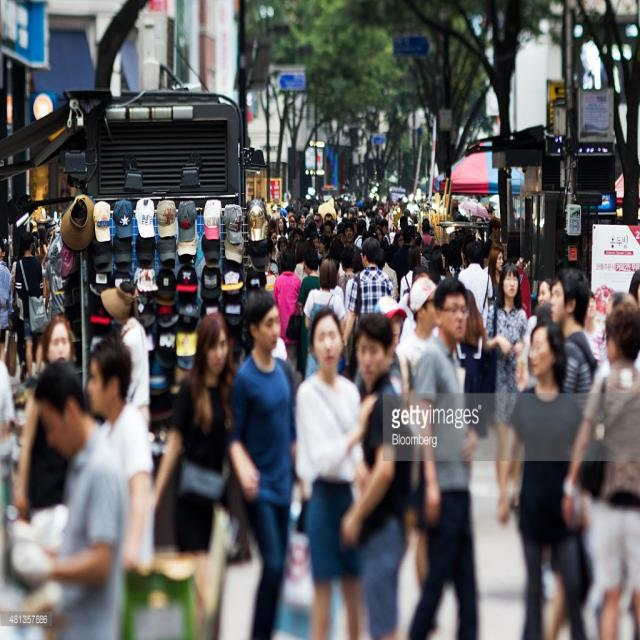body: (4, 355, 132, 639), (492, 310, 601, 639), (398, 271, 482, 639), (292, 306, 384, 639), (336, 308, 422, 639), (244, 179, 535, 275), (559, 298, 639, 639), (149, 310, 256, 560), (224, 287, 299, 640), (84, 335, 156, 579), (11, 314, 75, 525), (484, 258, 532, 524), (99, 277, 152, 430), (548, 266, 600, 415), (352, 293, 410, 403), (341, 236, 395, 352), (454, 288, 491, 441), (302, 257, 347, 380), (14, 230, 49, 387), (0, 329, 21, 585), (284, 248, 322, 384), (395, 274, 439, 375), (520, 276, 554, 394), (49, 168, 75, 315), (454, 239, 494, 334), (272, 246, 302, 361), (10, 250, 27, 382), (484, 244, 506, 330), (397, 264, 431, 318), (603, 262, 640, 310), (0, 242, 14, 364), (584, 290, 606, 362), (398, 242, 424, 302), (37, 225, 50, 305), (16, 204, 50, 232), (534, 295, 554, 333), (428, 248, 447, 284)
